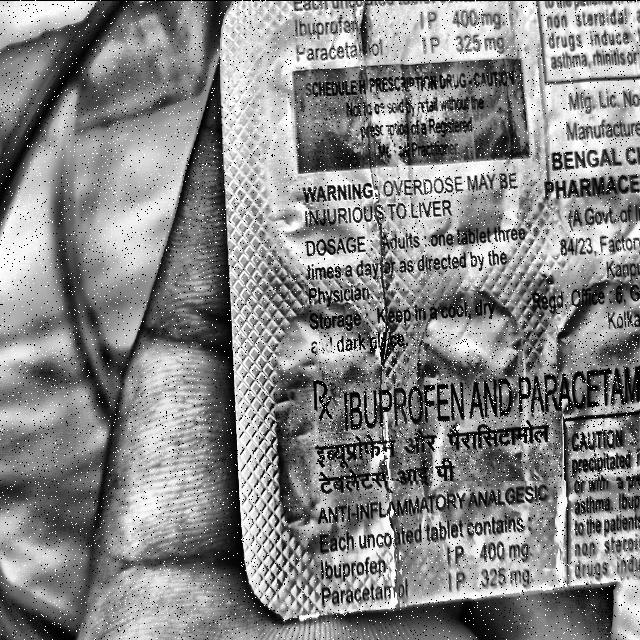IBUPROFEN AND PARACETAMOL TABLETS: (320, 331, 638, 480)
